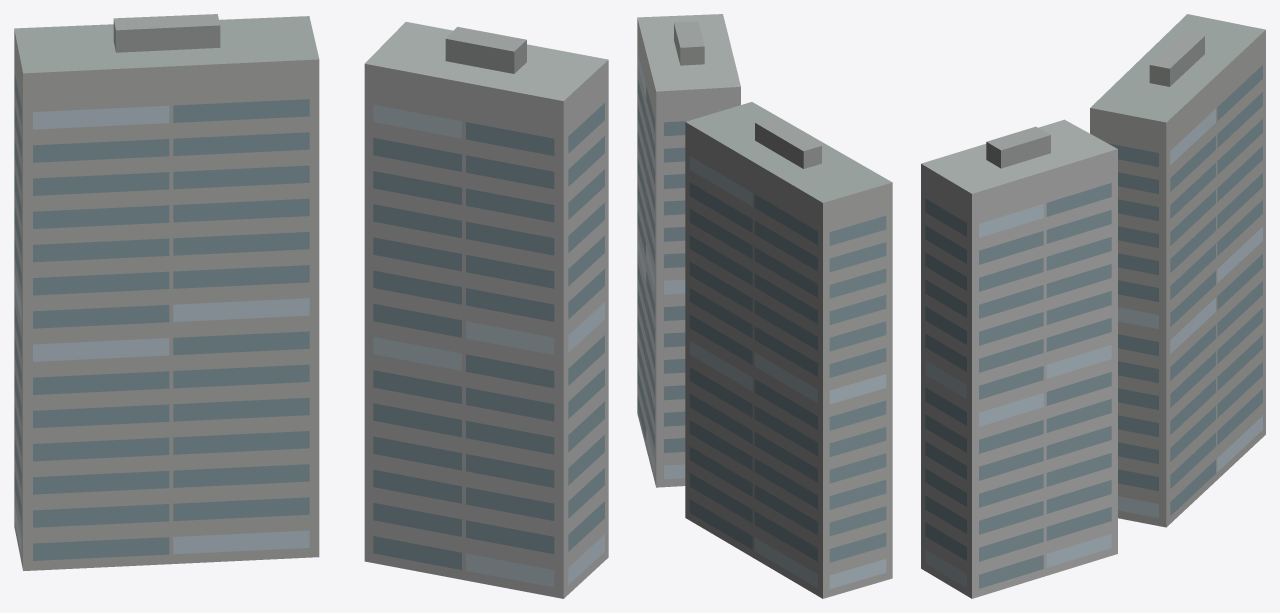
File: apt-a15105002.glb
The picture shows the model from 3 angles, left to right: view 1: azimuth 30°, elevation 25°; view 2: azimuth 150°, elevation 25°; view 3: azimuth 270°, elevation 25°; orthographic projection. The views are drawn at different scales.
Visible parts, largest first — view 1: apt-a15105002; view 2: apt-a15105002; view 3: apt-a15105002.
Part boxes in pixels (left/top/right/bottom): apt-a15105002: left=14, top=14, right=608, bottom=598; apt-a15105002: left=637, top=14, right=892, bottom=598; apt-a15105002: left=921, top=14, right=1265, bottom=598.
Bounding box in the file's own units: 43.6 × 47.81 × 35.31.
